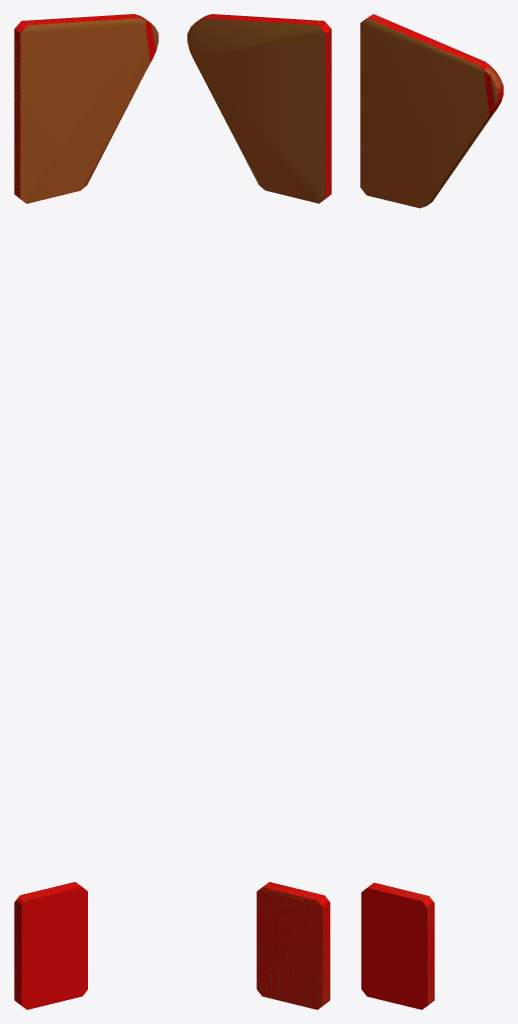
Rendered from M_md_Stall1_cap_01.fbx.
3 views of the same model, side by side, from view 1: azimuth 30°, elevation 25°; view 2: azimuth 150°, elevation 25°; view 3: azimuth 330°, elevation 25° (orthographic).
Parts seen in each view (by area): view 1: M_md_Stall1_cap_01, M_md_Stall1_cap_01_col_02; view 2: M_md_Stall1_cap_01, M_md_Stall1_cap_01_col_02, M_md_Stall1_cap_01_col_01; view 3: M_md_Stall1_cap_01, M_md_Stall1_cap_01_col_02.
Part boxes in pixels (x1,y1,x2,y2): M_md_Stall1_cap_01: [14, 14, 158, 1009]; M_md_Stall1_cap_01_col_02: [14, 15, 158, 203]; M_md_Stall1_cap_01: [187, 14, 331, 1009]; M_md_Stall1_cap_01_col_02: [187, 14, 331, 203]; M_md_Stall1_cap_01_col_01: [256, 882, 330, 1009]; M_md_Stall1_cap_01: [360, 14, 503, 1009]; M_md_Stall1_cap_01_col_02: [360, 15, 503, 207].
Bounding box in the file's own units: 14.52 × 98.68 × 1.32.
